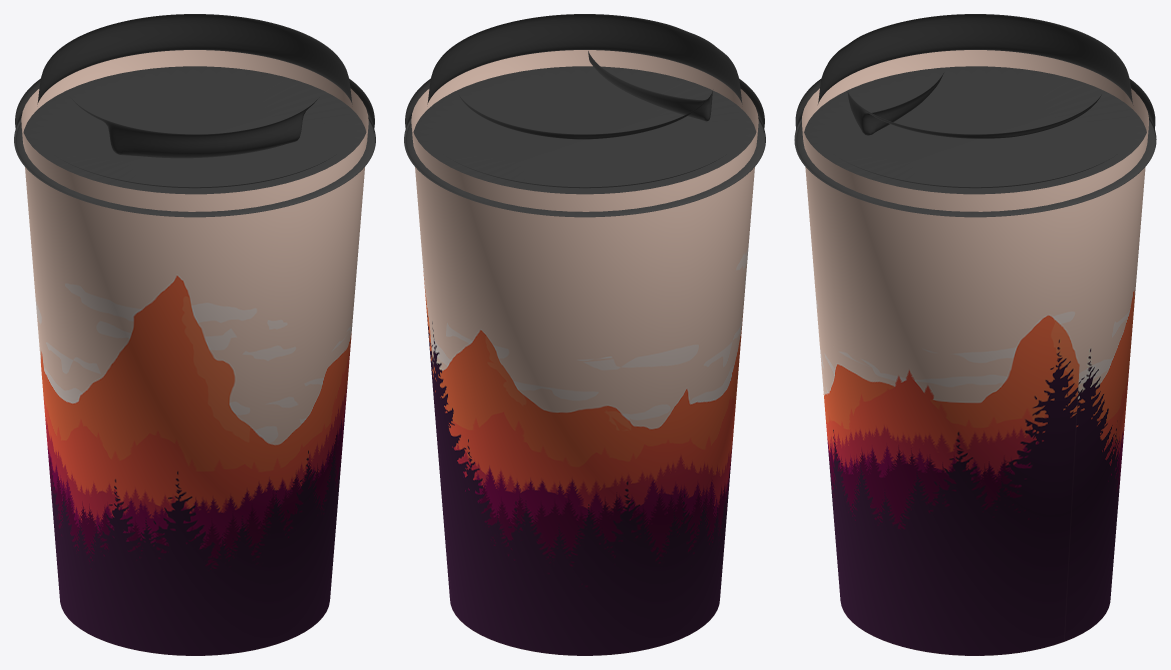
File: Coffee.glb
The picture shows the model from 3 angles, left to right: view 1: azimuth 30°, elevation 25°; view 2: azimuth 150°, elevation 25°; view 3: azimuth 270°, elevation 25°; orthographic projection.
Visible parts, largest first — view 1: Coffee Coup, Lid; view 2: Coffee Coup, Lid; view 3: Coffee Coup, Lid.
Part boxes in pixels (x1,y1,x2,y2): Coffee Coup: (21, 50, 368, 655); Lid: (14, 14, 375, 217); Coffee Coup: (411, 50, 758, 655); Lid: (404, 14, 765, 217); Coffee Coup: (802, 50, 1148, 655); Lid: (794, 14, 1156, 217).
Bounding box in the file's own units: 6.8 × 10.8 × 6.8.
2 materials, 1 textured.
